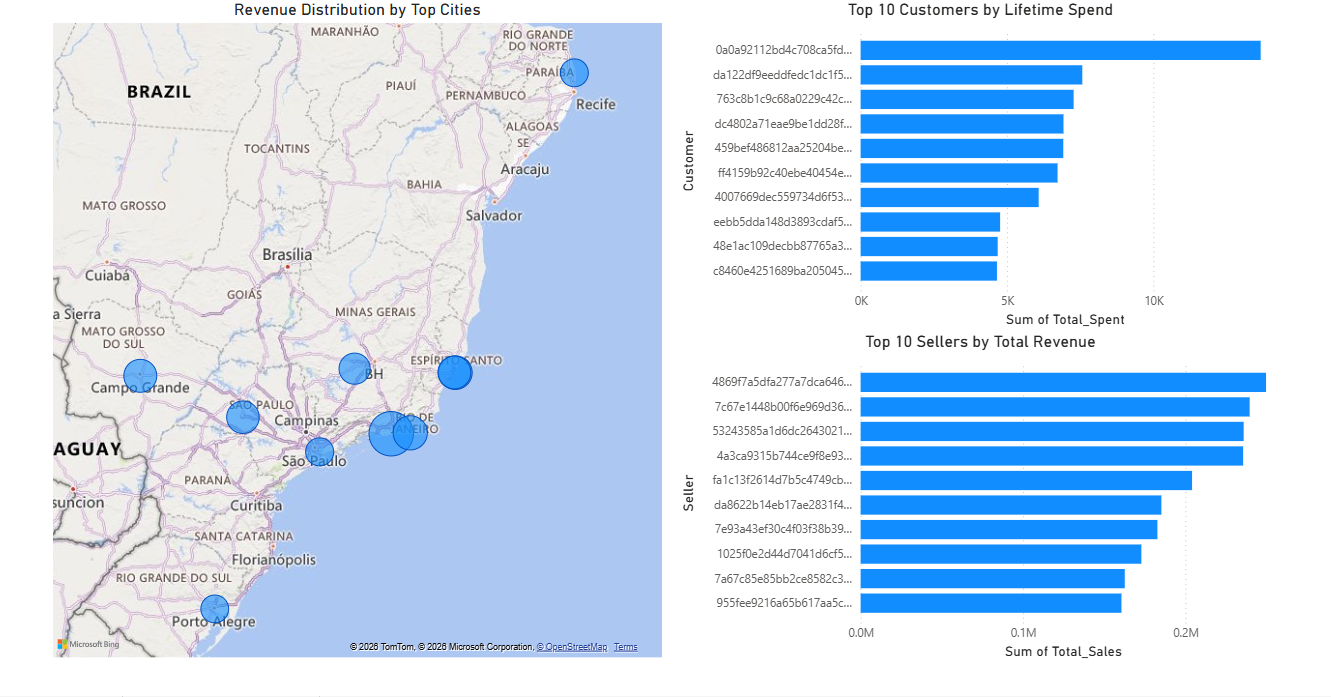

The dashboard page shown, as its layout file describes it:
{"tool":"powerbi","page":{"name":"Customer & Seller Insights","canvas":[1280,720],"ordinal":1},"visuals":[{"type":"map","fields":{"Category":["Top_10_City_By_Spent.City"],"Size":["Sum(Top_10_City_By_Spent.Total_Spent)"]},"box":[0,0,640,686.2],"z":0},{"type":"barChart","title":"Top 10 Customers by Lifetime Spend","fields":{"Y":["Sum(Top_10_Customer_By_Total_Spent.Total_Spent)"],"Category":["Top_10_Customer_By_Total_Spent.Customer"]},"box":[650,0,630,342.9],"z":1000},{"type":"barChart","title":"Top 10 Sellers by Total Revenue","fields":{"Category":["Top_10_Seller_By_Sales.Seller"],"Y":["Sum(Top_10_Seller_By_Sales.Total_Sales)"]},"box":[650,343,630,343],"z":2000}]}

Visuals, with their boxes on the page's 1280x720 design canvas (x1, y1, x2, y2). These are canvas units, not pixel positions in the 1331x697 screenshot, which may show the page scaled, cropped or inside an application window:
map - Top_10_City_By_Spent.City x Sum(Top_10_City_By_Spent.Total_Spent): [left=0, top=0, right=640, bottom=686]
"Top 10 Customers by Lifetime Spend" barChart: [left=650, top=0, right=1280, bottom=343]
"Top 10 Sellers by Total Revenue" barChart: [left=650, top=343, right=1280, bottom=686]
